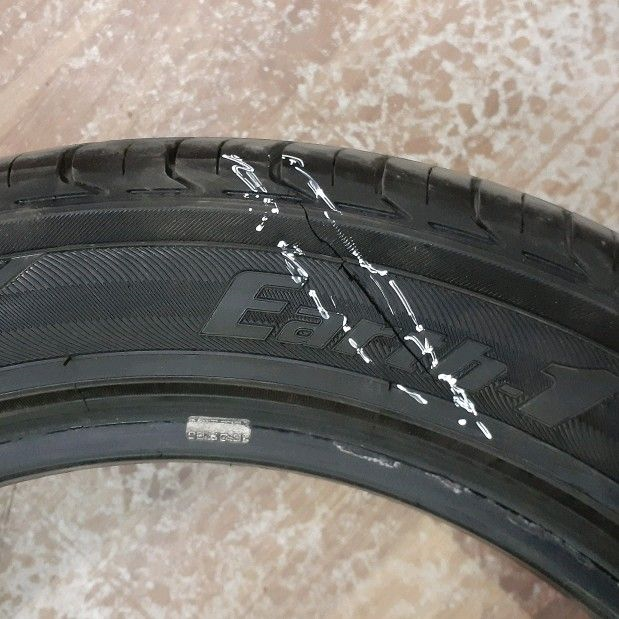cut: (297, 202, 441, 386)
